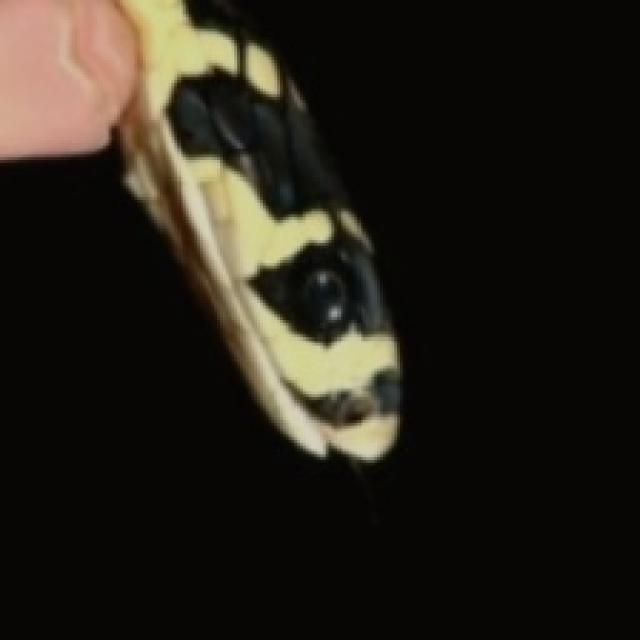king cobra: (0, 0, 397, 460), (117, 0, 397, 460)
